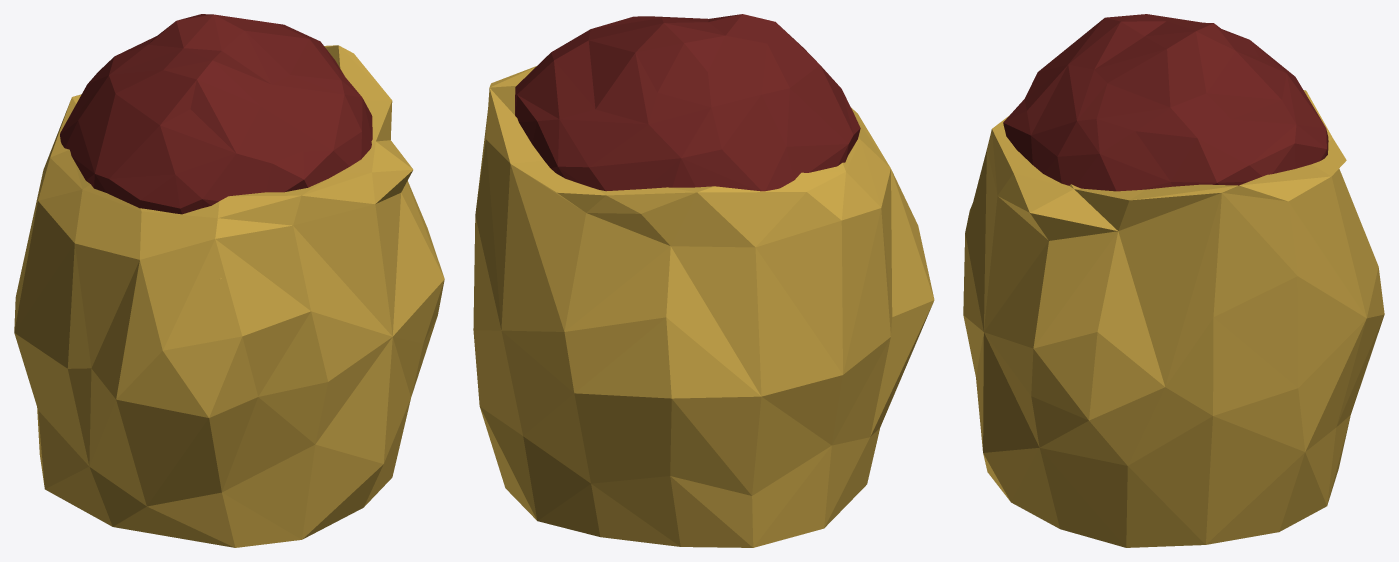
File: flour_red.fbx
3 renders of one model, left to right at view 1: azimuth 30°, elevation 25°; view 2: azimuth 150°, elevation 25°; view 3: azimuth 270°, elevation 25°, orthographic. The views are drawn at different scales.
Parts seen in each view (by area): view 1: Cylinder.010, Sphere.011; view 2: Cylinder.010, Sphere.011; view 3: Cylinder.010, Sphere.011.
Part boxes in pixels (x1=…): Cylinder.010: x1=14, y1=45, x2=444, y2=547; Sphere.011: x1=60, y1=14, x2=372, y2=214; Cylinder.010: x1=473, y1=66, x2=934, y2=547; Sphere.011: x1=515, y1=14, x2=860, y2=191; Cylinder.010: x1=963, y1=90, x2=1384, y2=547; Sphere.011: x1=1003, y1=14, x2=1328, y2=191.
Size of the model in its own units: 238 by 285 by 242.
